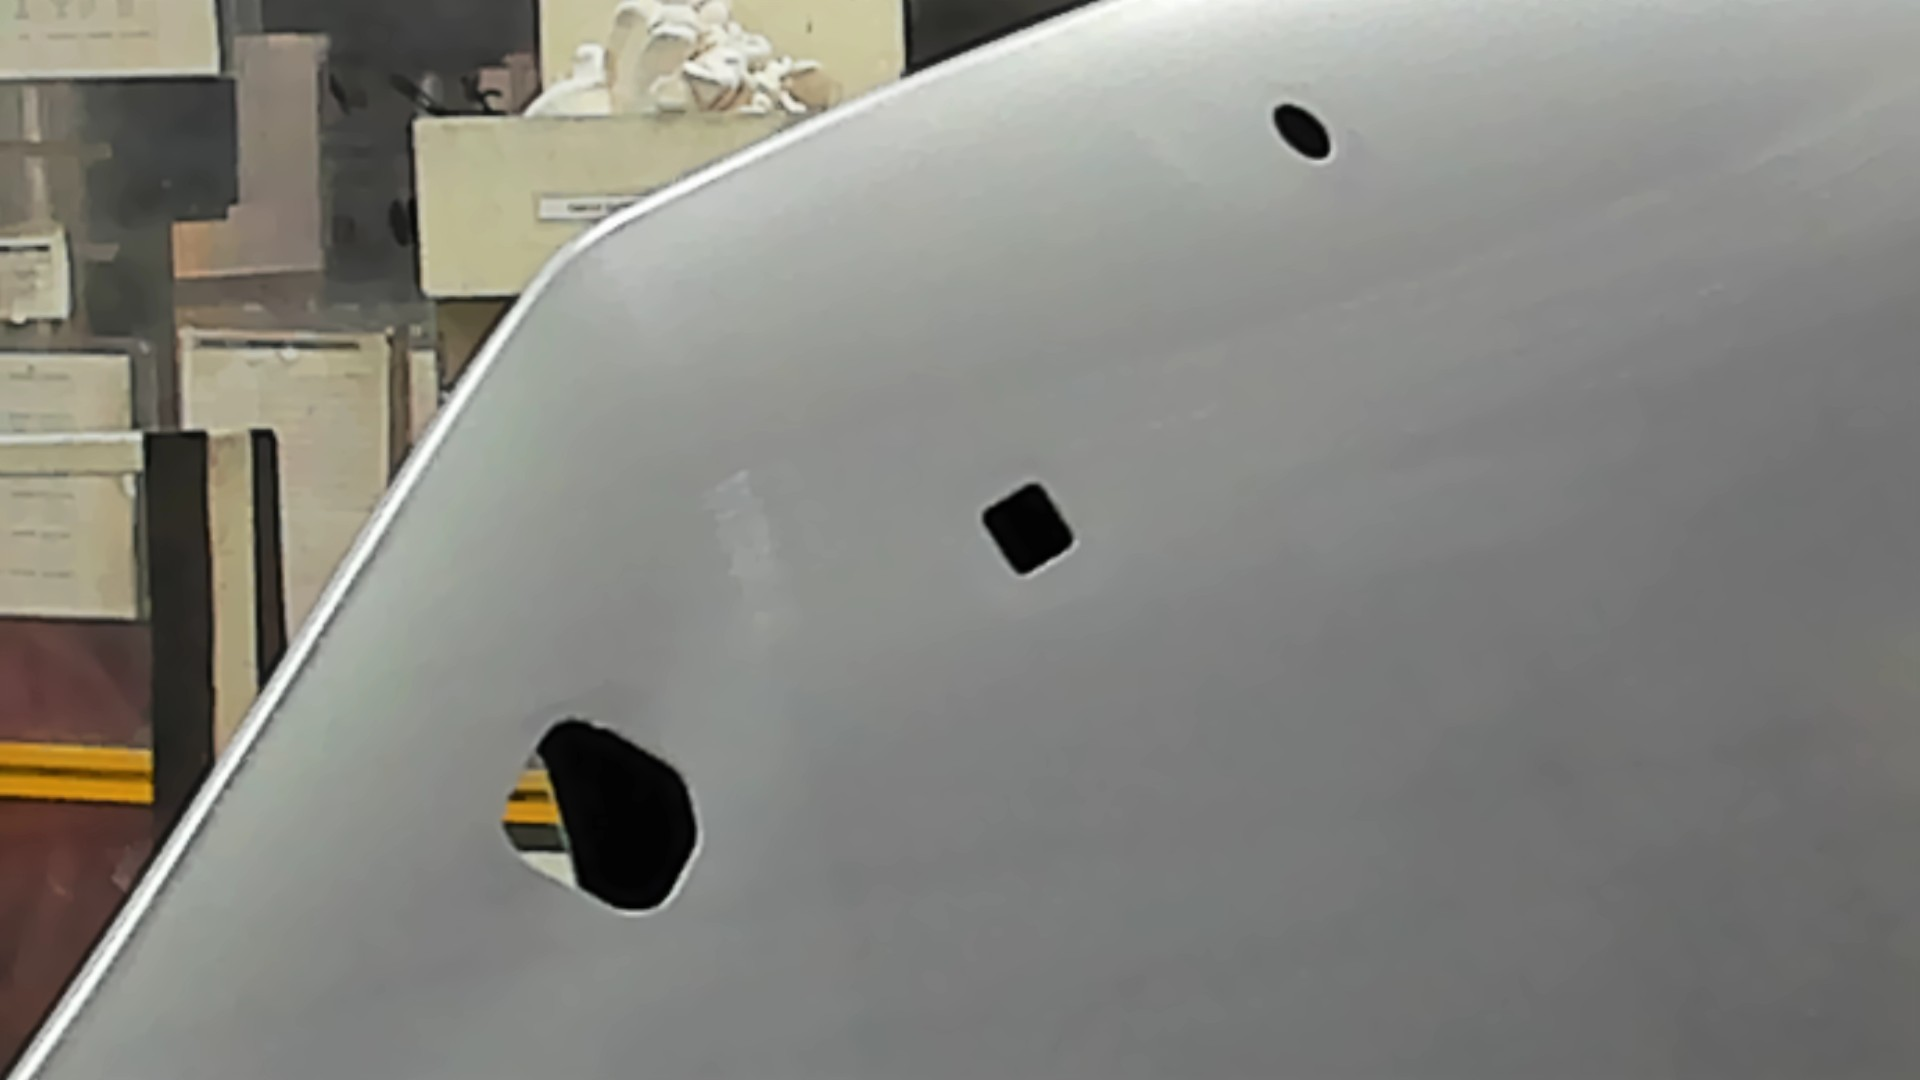capo: (1081, 175, 1920, 1080)
chico: (1269, 98, 1336, 167)
grande: (495, 709, 709, 926)
mediano: (977, 476, 1083, 587)
